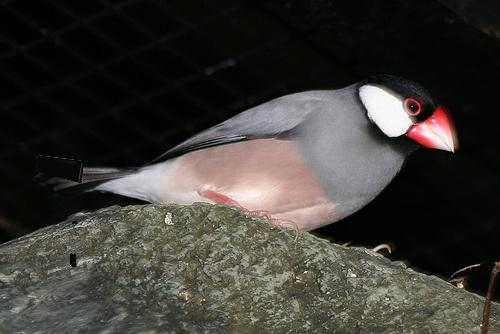tampered: (36, 156, 83, 267)
